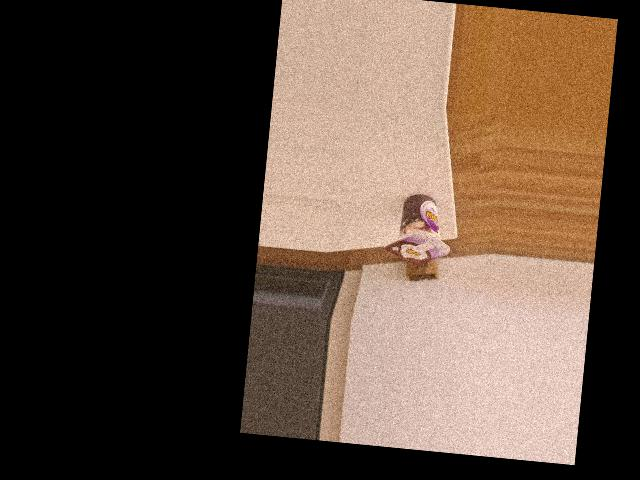milky: (383, 190, 454, 268)
